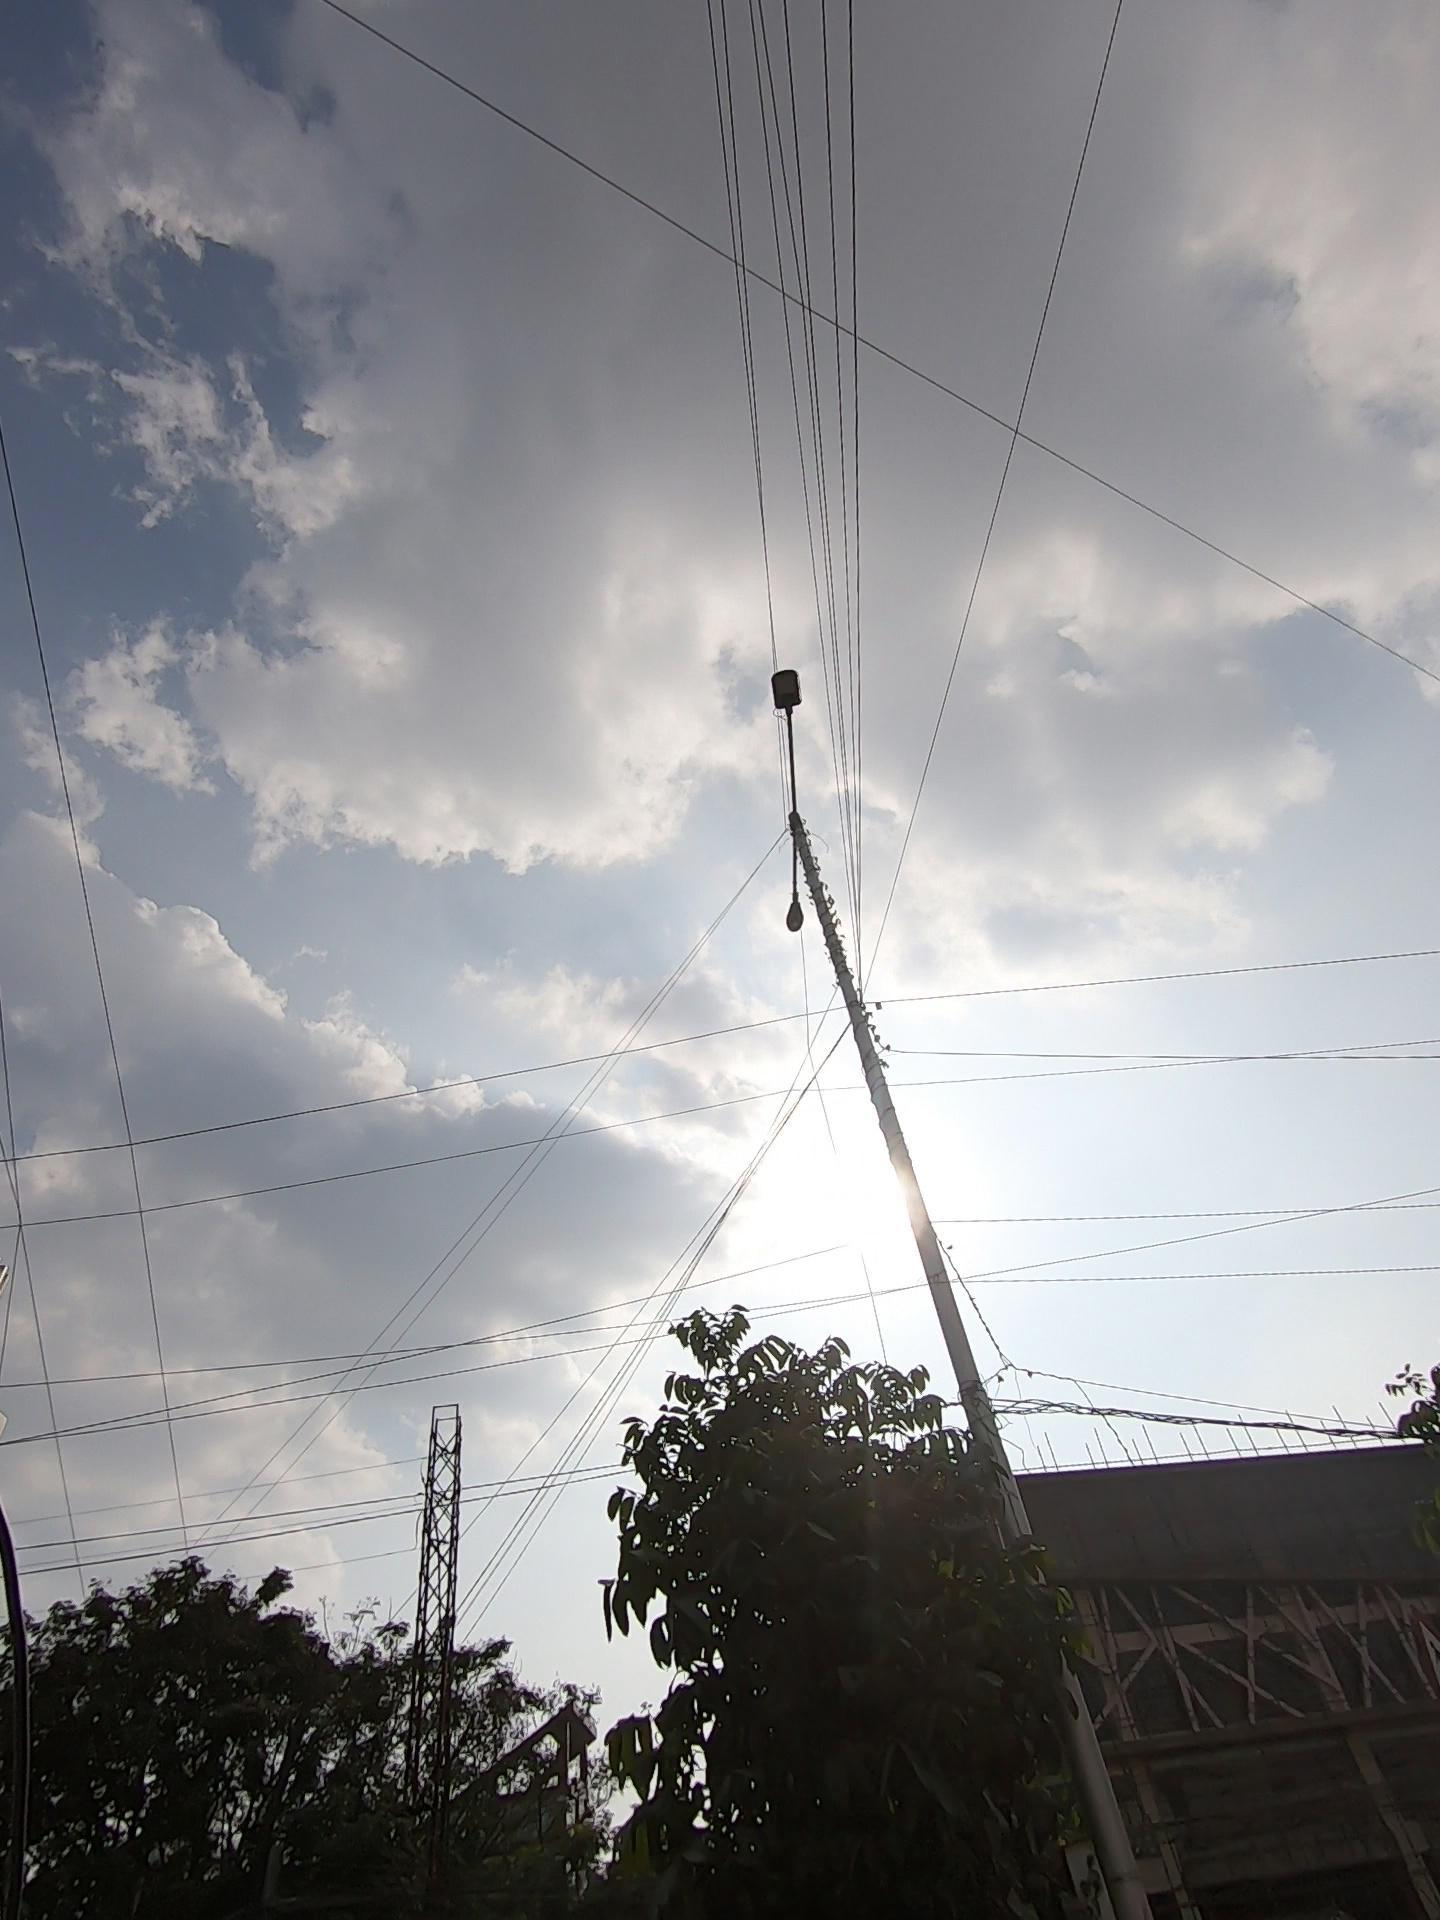off: (700, 526, 883, 1048)
